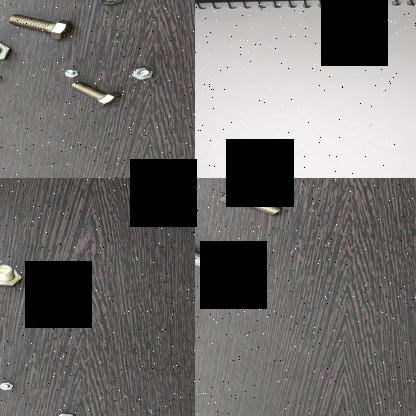Bolts: (217, 179, 283, 221), (4, 9, 71, 39), (68, 79, 122, 107), (195, 237, 224, 273), (52, 294, 82, 312), (0, 266, 22, 288), (128, 64, 158, 80), (0, 36, 16, 64), (48, 408, 82, 416), (92, 0, 124, 8)
